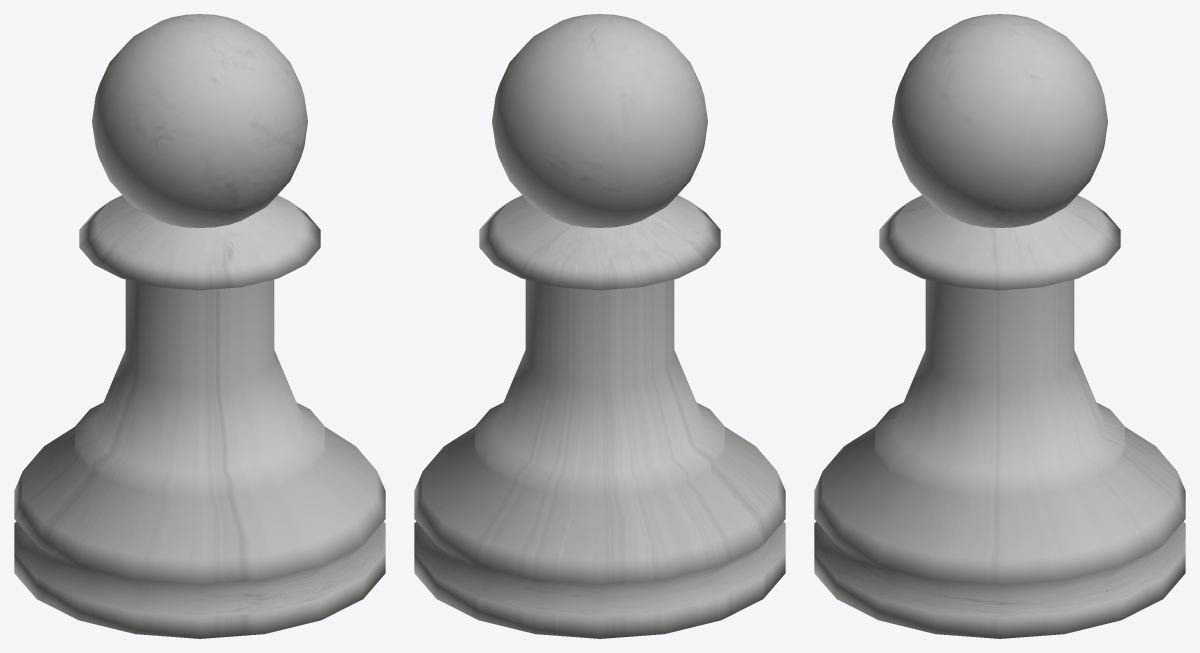
Rendered from white_pawn3.glb.
3 views of the same model, side by side, from view 1: azimuth 30°, elevation 25°; view 2: azimuth 150°, elevation 25°; view 3: azimuth 270°, elevation 25° (orthographic).
Parts seen in each view (by area): view 1: W_Pawn_1; view 2: W_Pawn_1; view 3: W_Pawn_1.
Part boxes in pixels (bbox=[...]): W_Pawn_1: bbox=[14, 14, 385, 638]; W_Pawn_1: bbox=[414, 14, 785, 638]; W_Pawn_1: bbox=[814, 14, 1185, 638].
Bounding box in the file's own units: 1.25 × 2.02 × 1.23.
1 material, 1 textured.
